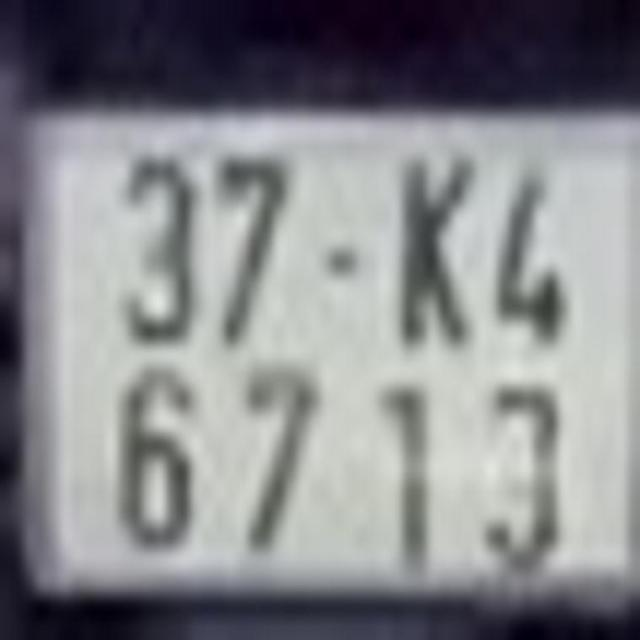1: (384, 375, 436, 584)
3: (478, 374, 565, 566), (117, 143, 195, 346)
4: (489, 153, 570, 346)
6: (111, 361, 204, 554)
7: (232, 359, 314, 554), (209, 150, 274, 350)
K: (382, 143, 477, 352)
